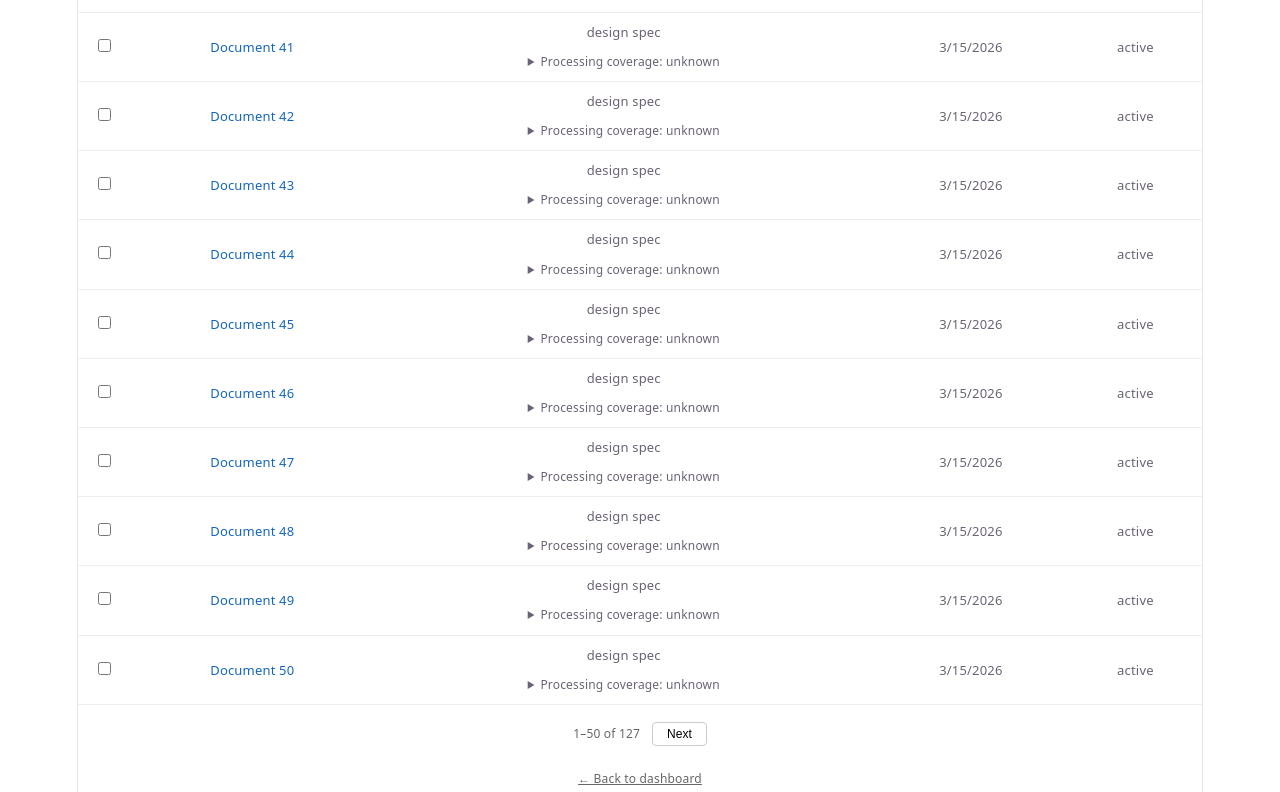
Search view: dashboard drill-down (catalog mode) › paginates forward with offset and shows Previous button
(page scrolled)
Click the button "Next": {"x": 679, "y": 734} [652,722,707,746]
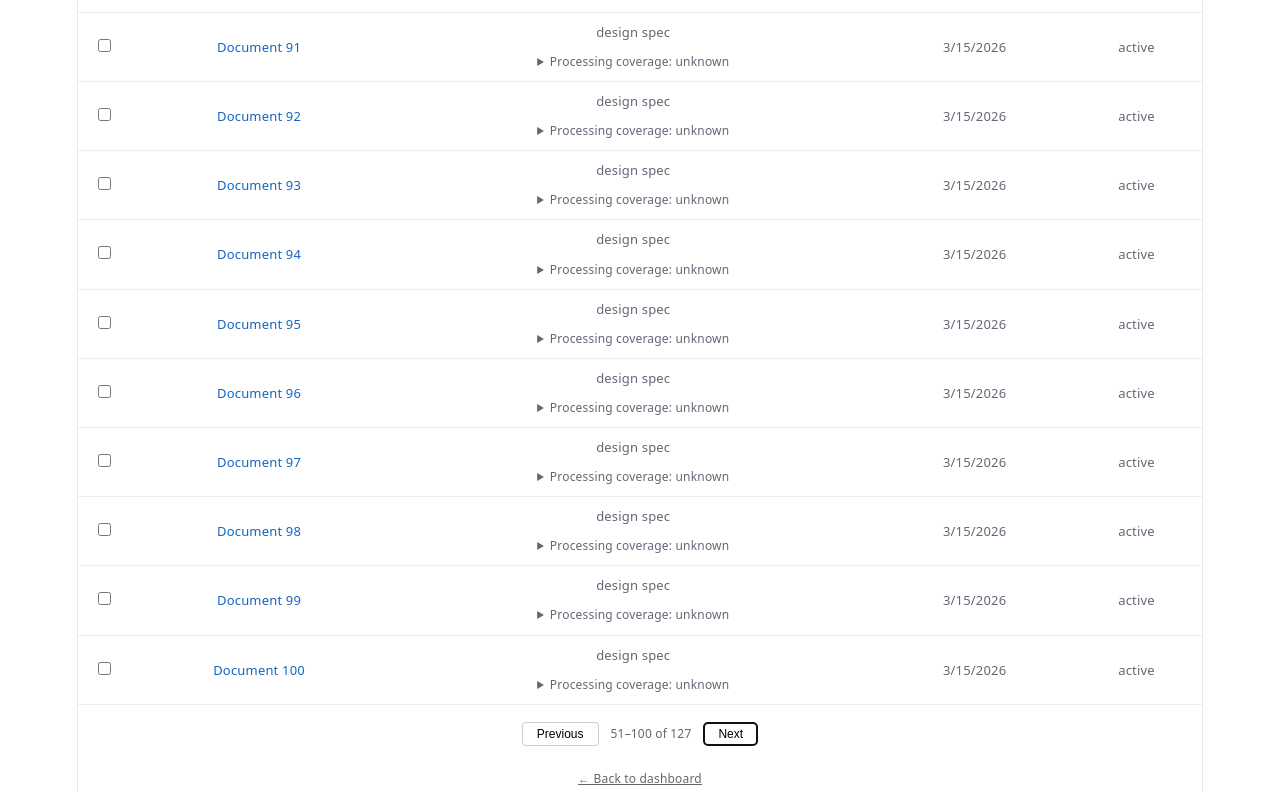
Expected: the button "Previous" is shown, [522,722,598,746]
